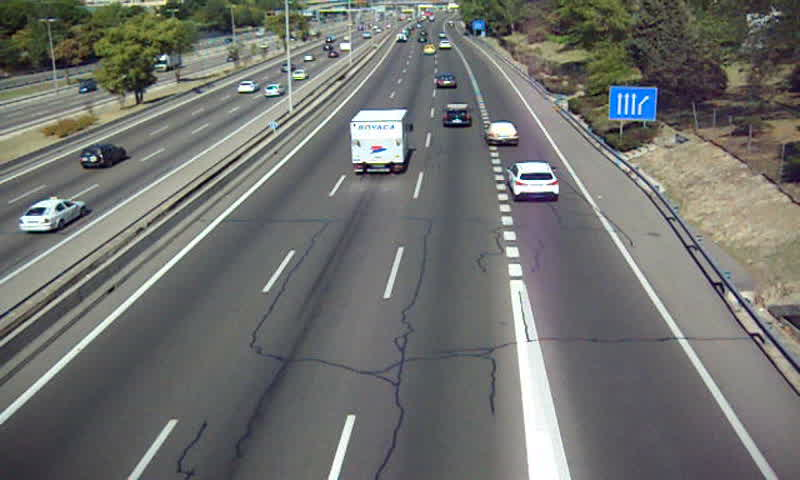car: (508, 161, 560, 200), (483, 121, 518, 145), (443, 104, 474, 126), (435, 73, 456, 88), (422, 42, 436, 55), (438, 38, 452, 48)
small-truck: (350, 109, 412, 173)
